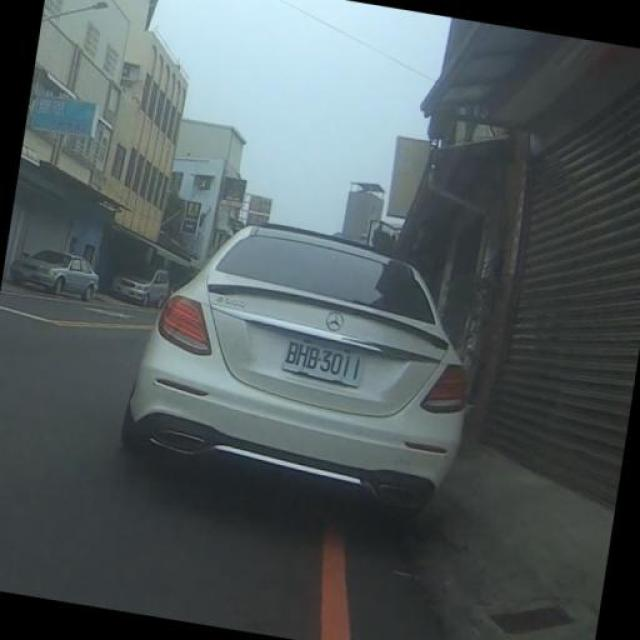Legalparking: (7, 236, 174, 320)
illegalparking: (130, 201, 475, 540)
